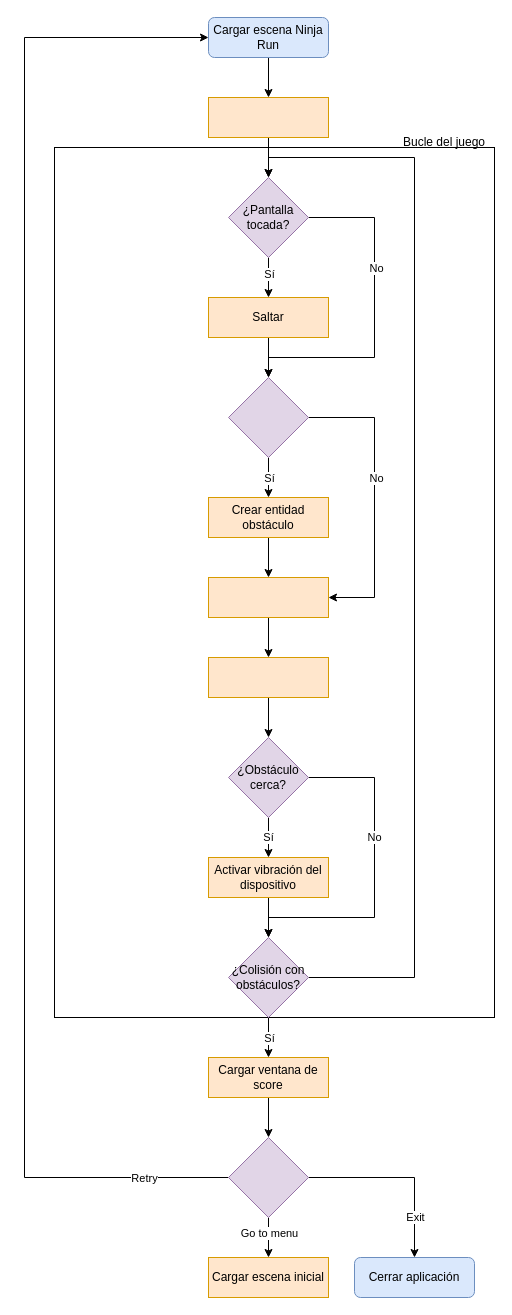
Some shapes in this 512 by 1315 pixel diagram are drawn without their labels. Here are the shapes that lost their labels. From the top down, the box of each, then its label:
(208, 96, 328, 138): Ventana contador 3, 2, 1, GO!
(228, 376, 308, 458): ¿Timer creación obstáculo a 0?
(208, 576, 328, 618): Animación personaje
(208, 656, 328, 698): Movimiento obstáculos
(228, 1136, 308, 1218): Elegir opción
